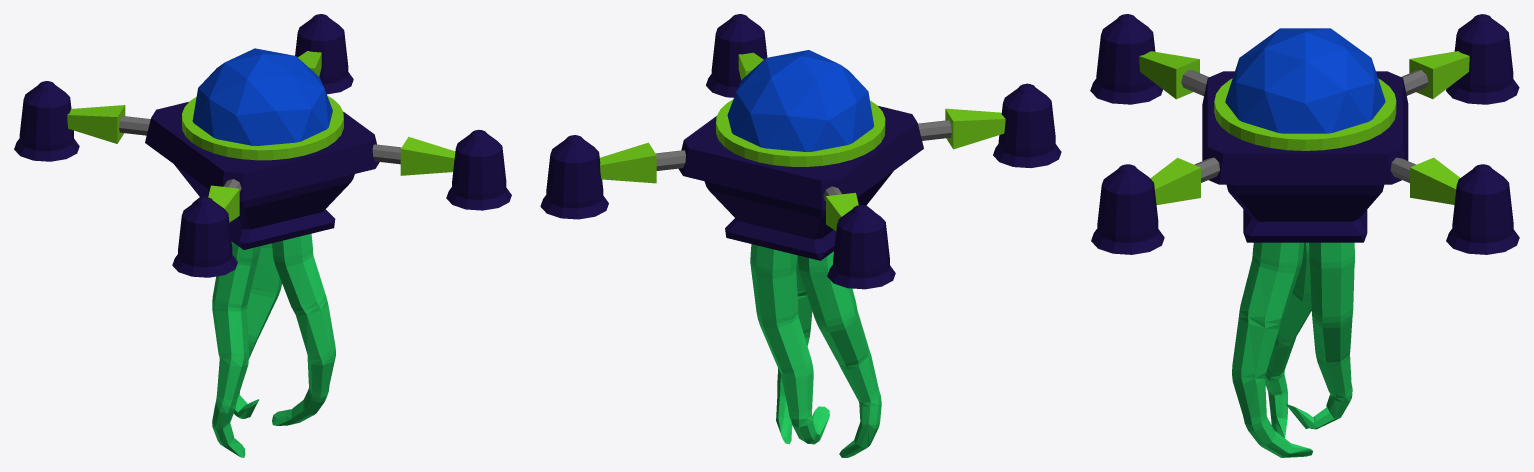
File: jellyfishBoss_22.obj
3 views of the same model, side by side, from view 1: azimuth 30°, elevation 25°; view 2: azimuth 150°, elevation 25°; view 3: azimuth 270°, elevation 25° (orthographic). The views are drawn at different scales.
Parts seen in each view (by area): view 1: Base_Cube.001, Head_Icosphere, Cylinder.002_Cylinder.001, Cylinder.003_Cylinder.002, Rocket_2_Cylinder.014, Rocket_1_Cylinder.003, Rocket_3_Cylinder.016, Cylinder, Rocket_4_Cylinder.018, Cylinder.001_Cylinder.012, B_Arm_1_Cube.002, B_Arm_3_Cube.011 (+2 smaller); view 2: Base_Cube.001, Head_Icosphere, Cylinder.001_Cylinder.012, Cylinder.003_Cylinder.002, Rocket_3_Cylinder.016, Rocket_4_Cylinder.018, Rocket_2_Cylinder.014, Cylinder, Rocket_1_Cylinder.003, B_Arm_4_Cube.012, B_Arm_2_Cube.010, Cylinder.002_Cylinder.001 (+3 smaller); view 3: Base_Cube.001, Head_Icosphere, Cylinder.002_Cylinder.001, Cylinder.001_Cylinder.012, Rocket_4_Cylinder.018, Rocket_1_Cylinder.003, Rocket_3_Cylinder.016, Rocket_2_Cylinder.014, Cylinder, Cylinder.003_Cylinder.002, B_Arm_2_Cube.010, B_Arm_3_Cube.011 (+4 smaller).
Part boxes in pixels (x1,y1,x2,y2): Base_Cube.001: (145,102,379,249); Head_Icosphere: (192,48,332,145); Cylinder.002_Cylinder.001: (272,233,335,425); Cylinder.003_Cylinder.002: (212,241,260,457); Rocket_2_Cylinder.014: (172,197,237,277); Rocket_1_Cylinder.003: (446,129,511,210); Rocket_3_Cylinder.016: (14,81,79,161); Cylinder: (182,95,343,160); Rocket_4_Cylinder.018: (295,14,353,94); Cylinder.001_Cylinder.012: (234,243,282,418); B_Arm_1_Cube.002: (400,136,455,175); B_Arm_3_Cube.011: (67,105,125,143); Base_Cube.001: (678,106,923,260); Head_Icosphere: (727,50,873,151); Cylinder.001_Cylinder.012: (750,244,829,444); Cylinder.003_Cylinder.002: (798,251,881,457); Rocket_3_Cylinder.016: (827,205,895,289); Rocket_4_Cylinder.018: (540,135,608,219); Rocket_2_Cylinder.014: (993,83,1061,167); Cylinder: (716,99,885,166); Rocket_1_Cylinder.003: (706,14,767,97); B_Arm_4_Cube.012: (599,142,656,183); B_Arm_2_Cube.010: (945,108,1005,149); Cylinder.002_Cylinder.001: (776,255,812,444); Base_Cube.001: (1202,71,1408,242); Head_Icosphere: (1225,28,1385,133); Cylinder.002_Cylinder.001: (1232,242,1312,457); Cylinder.001_Cylinder.012: (1285,242,1354,429); Rocket_4_Cylinder.018: (1446,164,1519,254); Rocket_1_Cylinder.003: (1091,164,1164,254); Rocket_3_Cylinder.016: (1446,14,1519,104); Rocket_2_Cylinder.014: (1090,14,1162,104); Cylinder: (1214,78,1396,150); Cylinder.003_Cylinder.002: (1265,242,1311,437); B_Arm_2_Cube.010: (1139,51,1199,99); B_Arm_3_Cube.011: (1409,51,1469,98).
Size of the model in its own units: 14.77 by 16.45 by 14.77.
